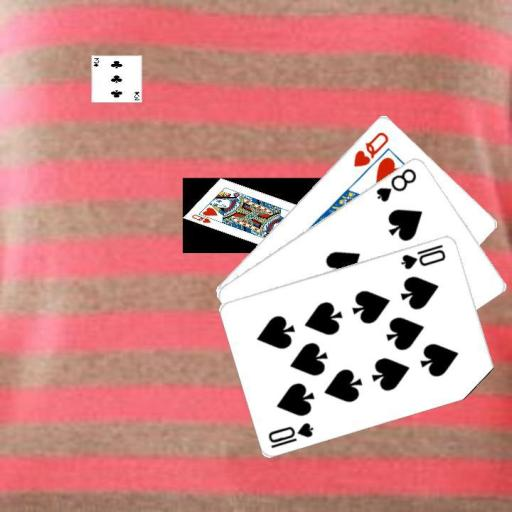10S: (398, 240, 448, 271), (265, 419, 316, 449)
8S: (373, 165, 418, 204)
QH: (350, 128, 390, 168)
